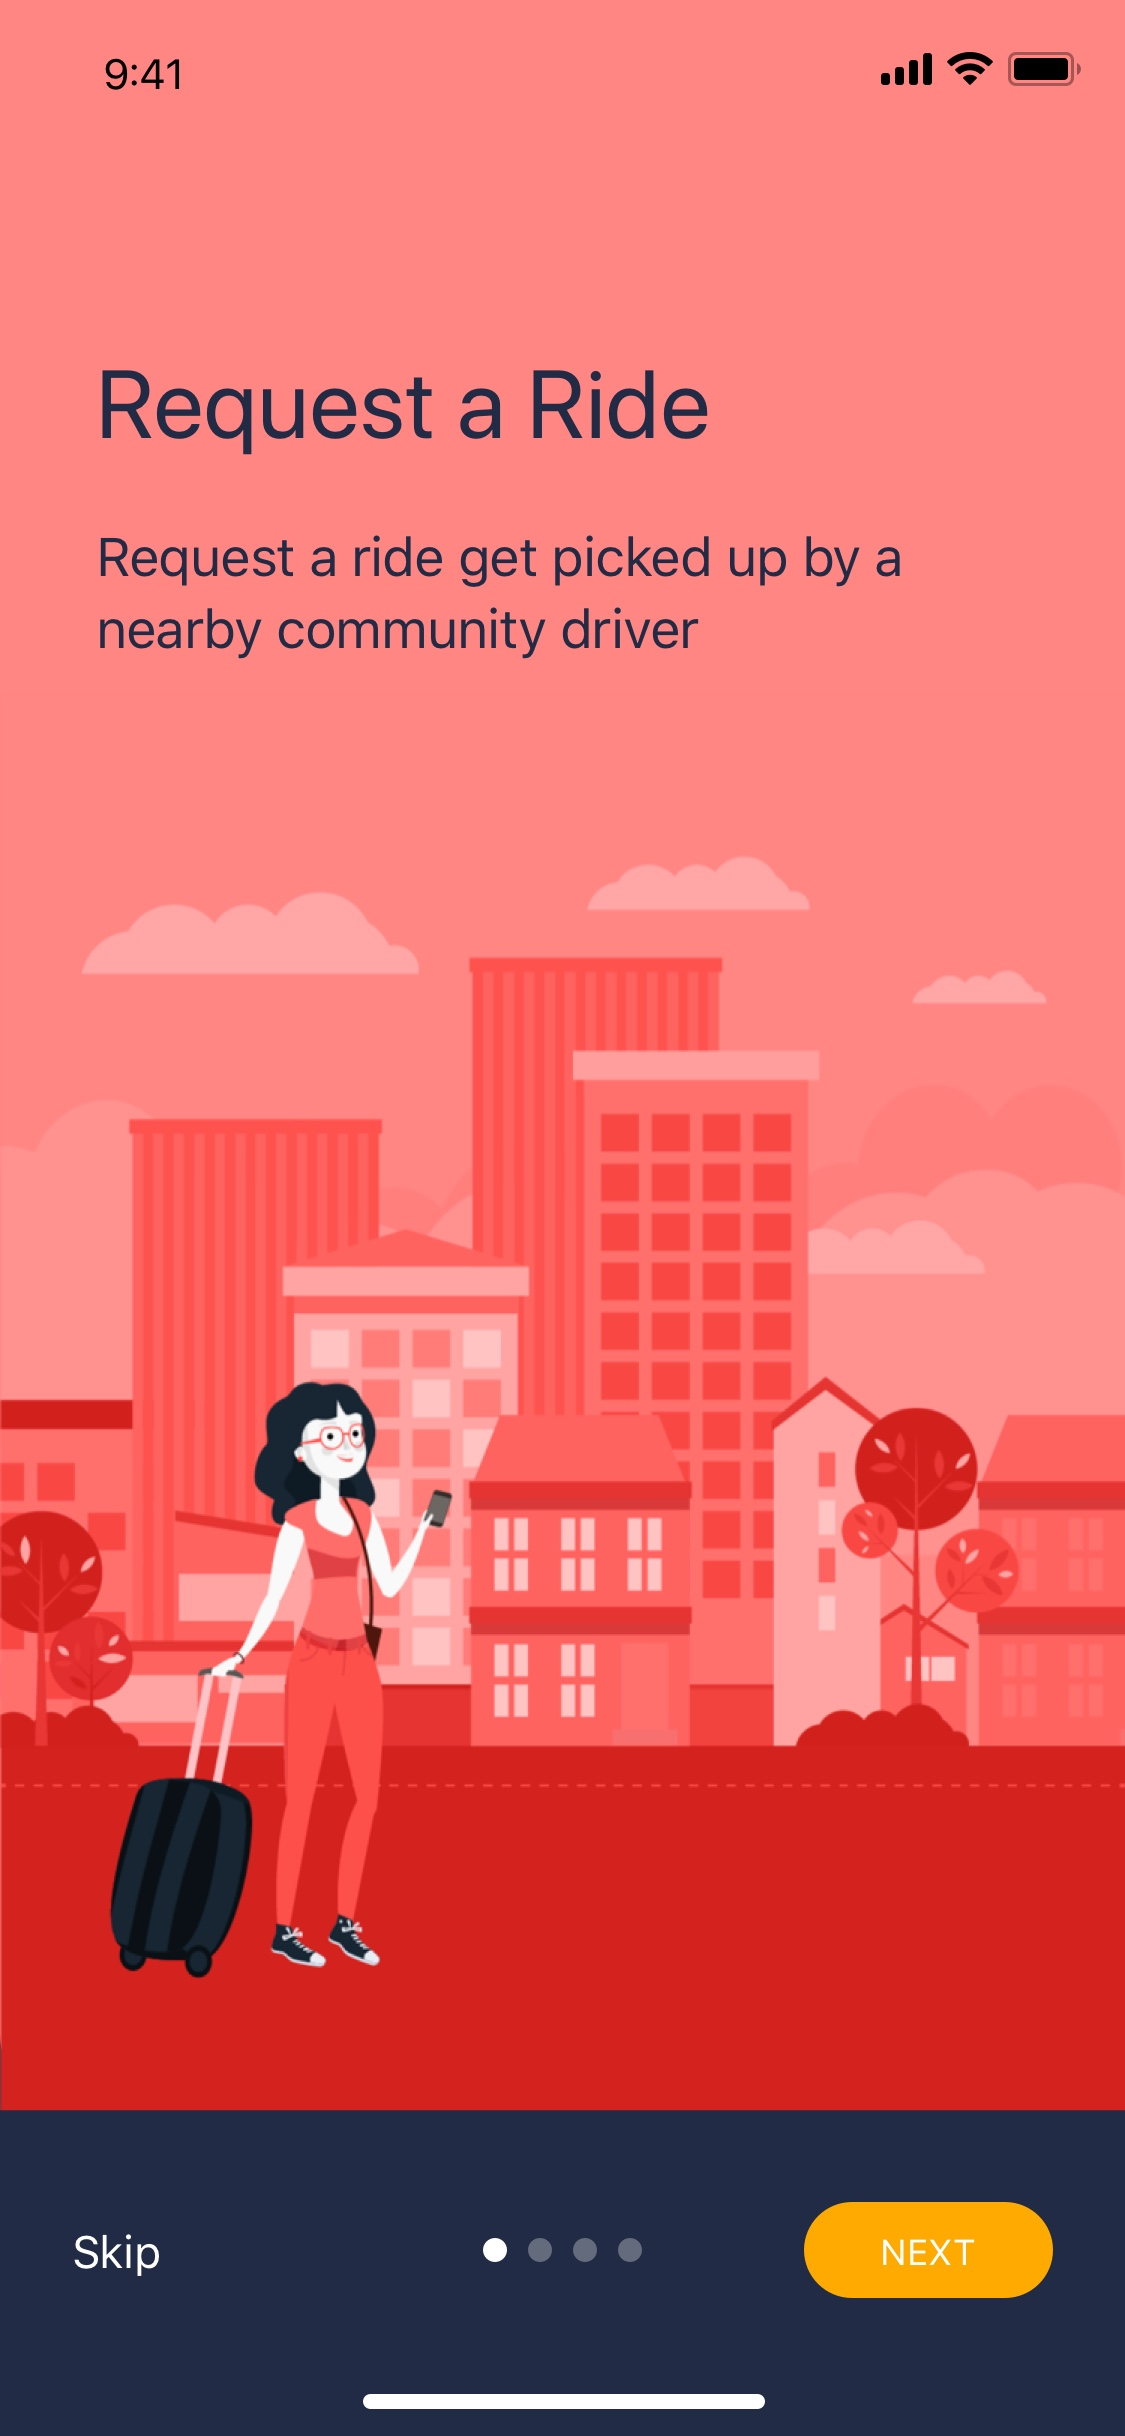Image: (2, 854, 1125, 1982)
PageIndicator: (482, 2237, 643, 2264)
Text: (99, 534, 901, 660), (101, 368, 709, 457), (75, 2232, 162, 2278)
TextButton: (803, 2201, 1055, 2299)
UpperTaskBar: (106, 51, 1083, 92)
